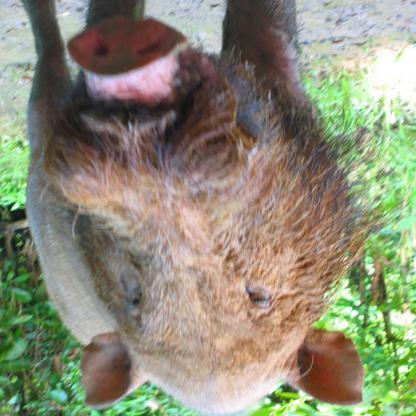boar: (18, 1, 409, 415)
